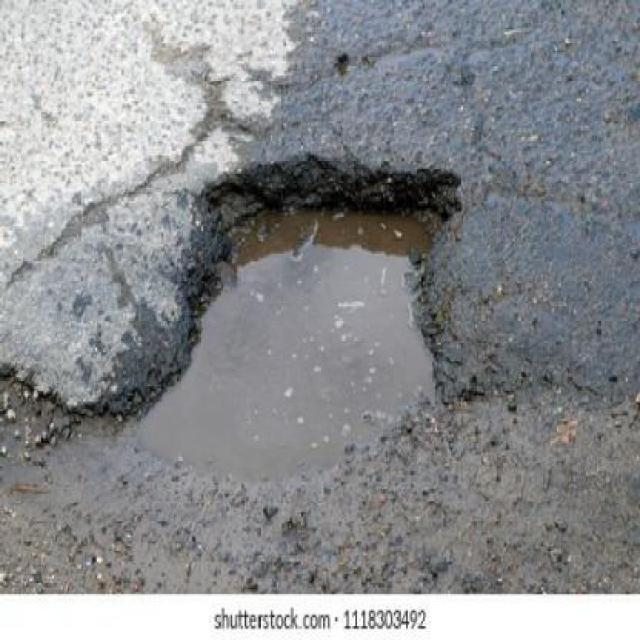pothole: (102, 146, 467, 494)
